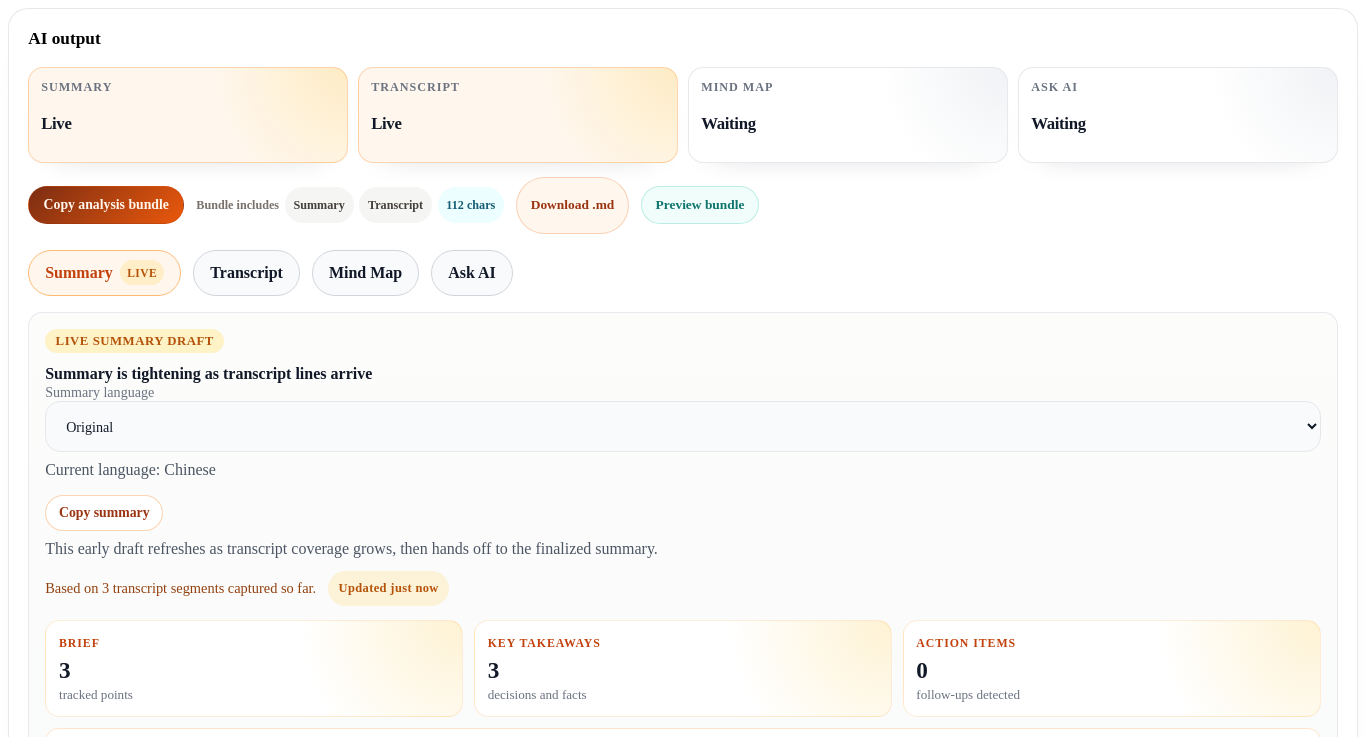
copies the full transcript text to the clipboard
Click the tab "Transcript" at (247, 273), box [193,250,300,296]
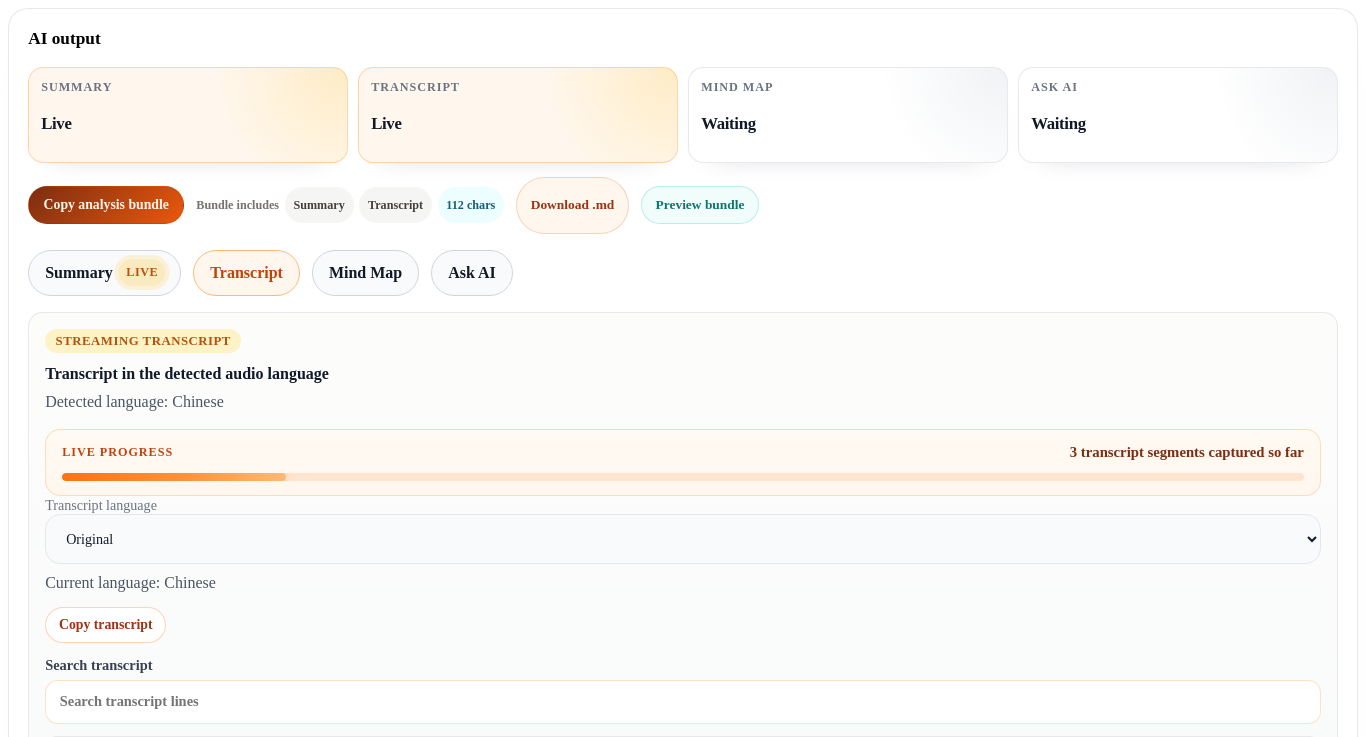
Type "第二" into the search field labelled "Search transcript" at (683, 702), box [45,680,1321,724]
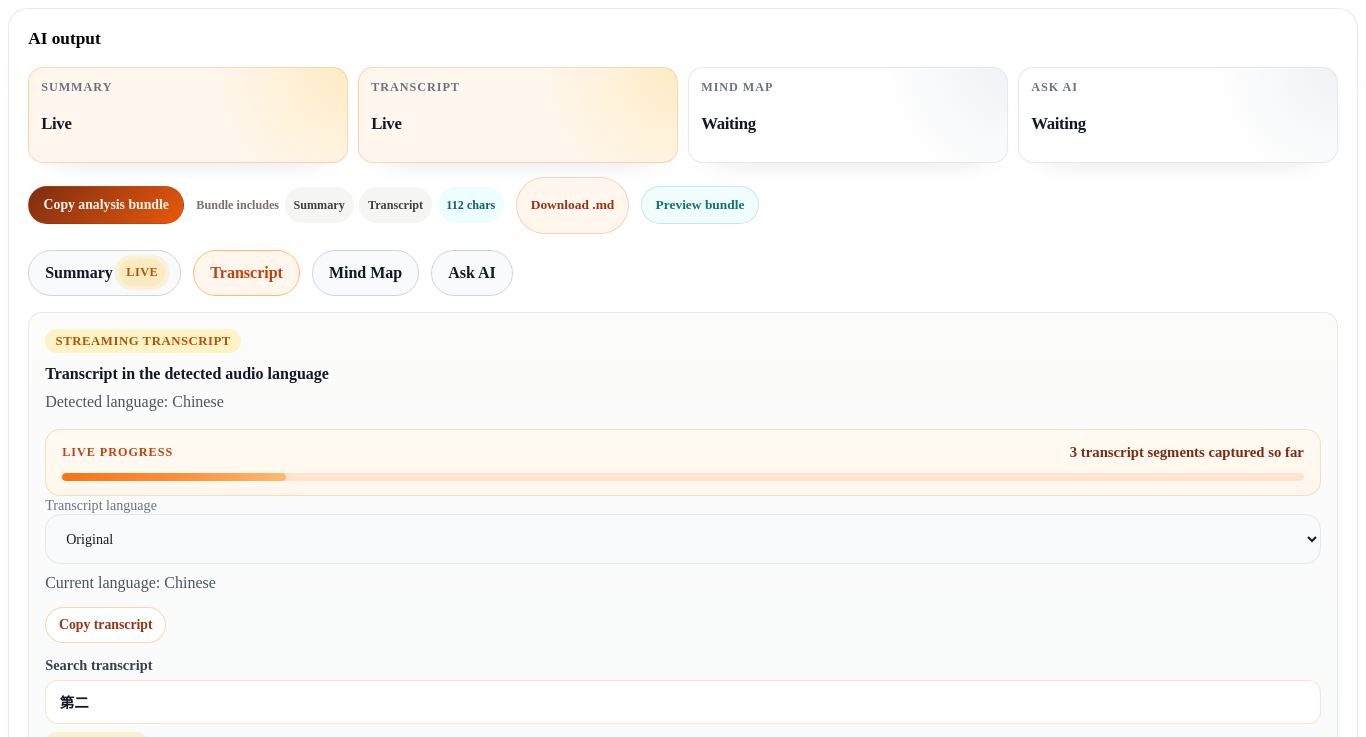
Click the button "Copy transcript" at (106, 626), box [45,608,166,644]
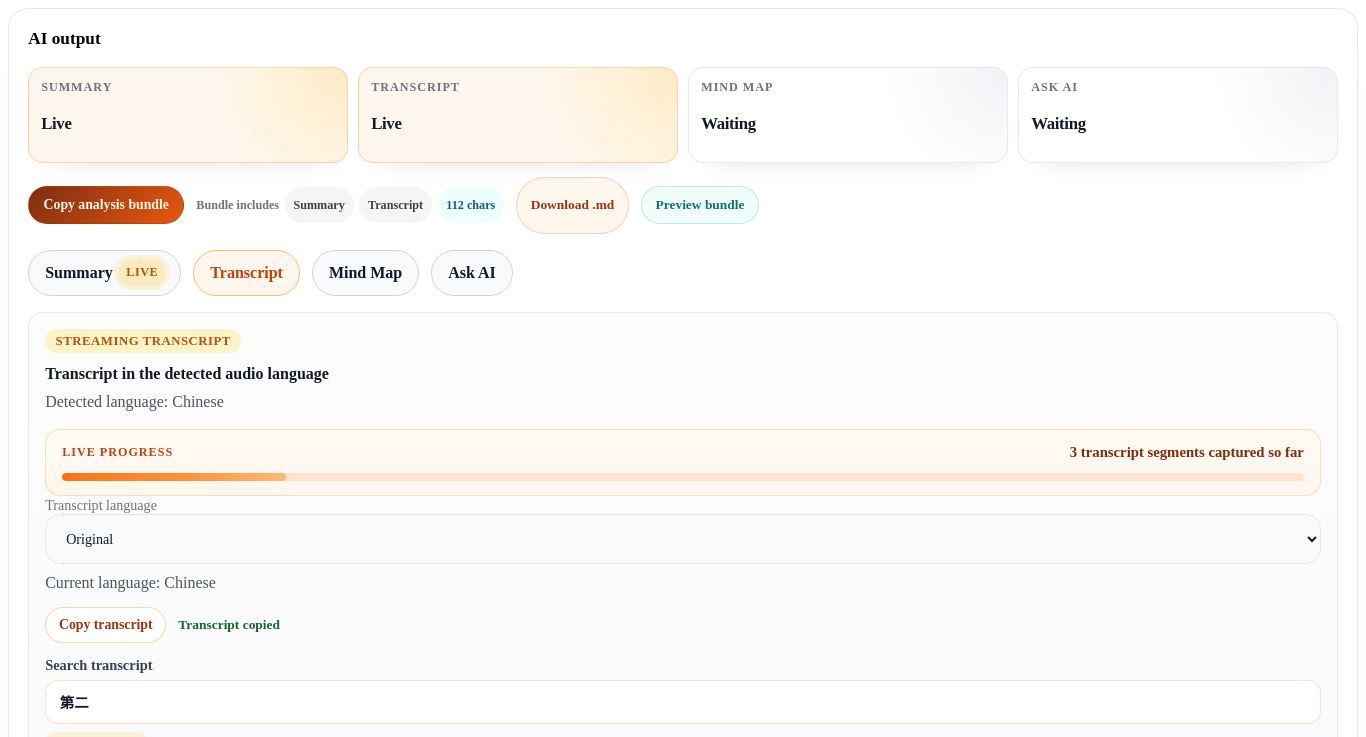
Expected: the text "Transcript copied" is shown, [178,618,280,634]
